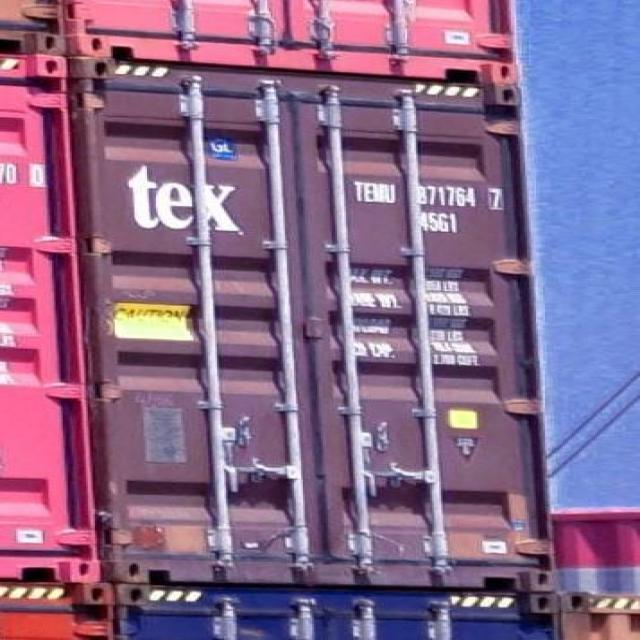ISO: (421, 211, 463, 234)
container_number: (360, 184, 502, 210)
